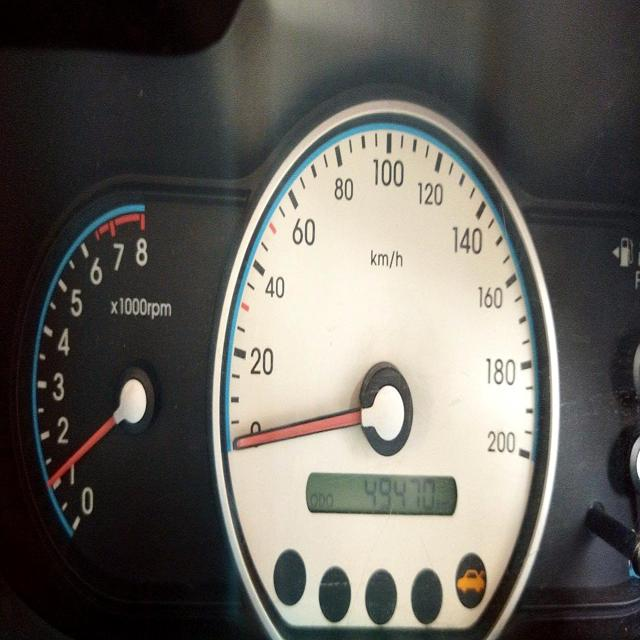odometer: (363, 475, 435, 512)
